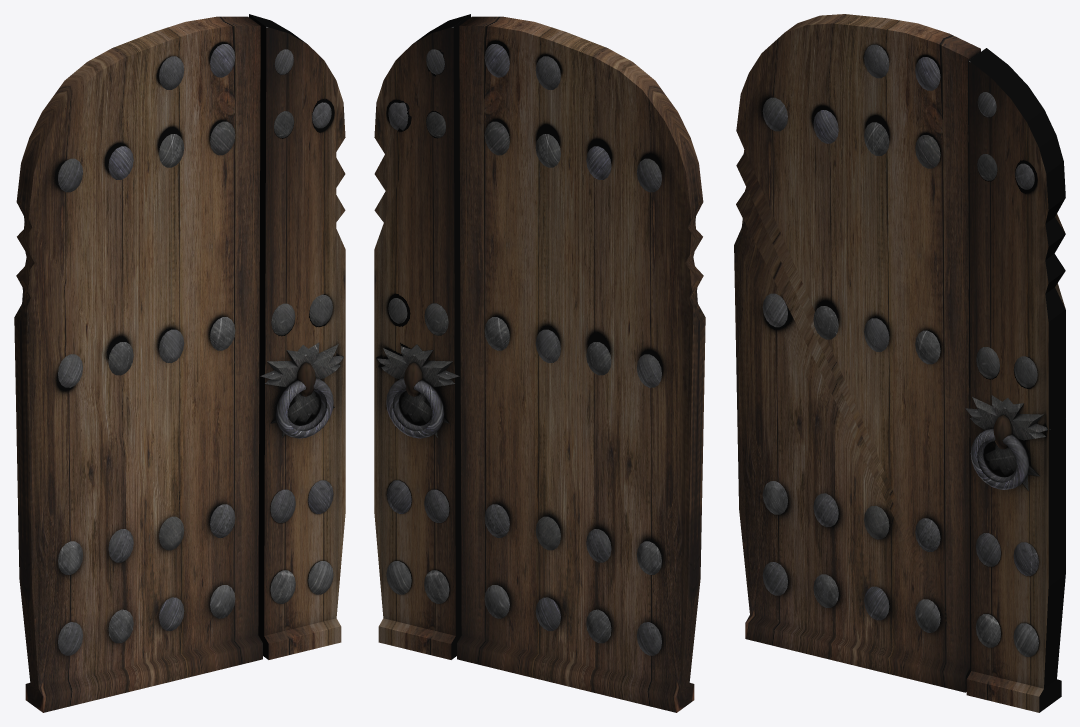
The model's file is door.fbx.
3 views of the same model, side by side, from view 1: azimuth 30°, elevation 25°; view 2: azimuth 150°, elevation 25°; view 3: azimuth 330°, elevation 25° (orthographic).
Parts seen in each view (by area): view 1: Door; view 2: Door; view 3: Door.
Boxes of the visible parts, <box> form: Door: <box>14,14,345,712</box>; Door: <box>374,14,705,712</box>; Door: <box>734,14,1065,712</box>.
Size of the model in its own units: 535 by 1033 by 95.98.
Materials: 1 (1 with a texture image).
